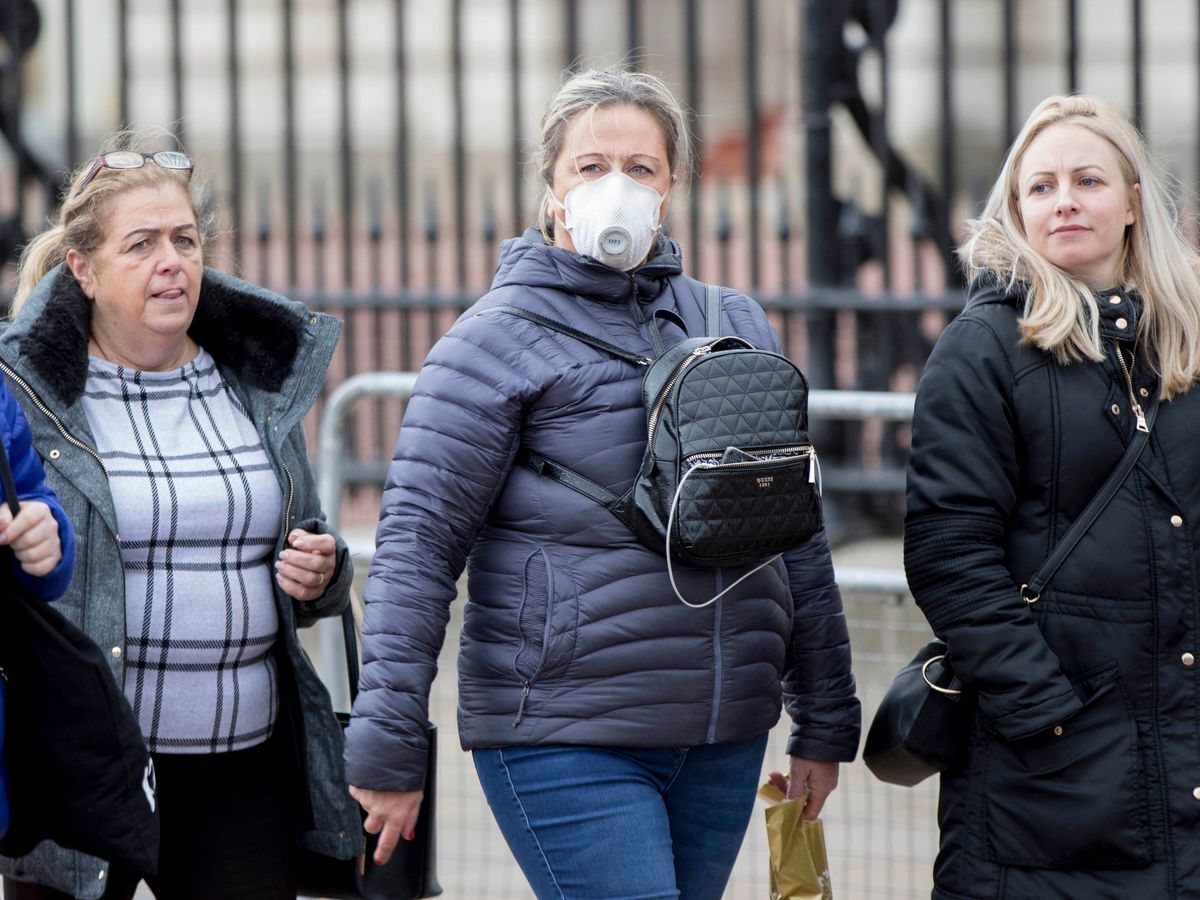bare: (95, 246, 217, 336), (1017, 193, 1130, 264)
n95: (563, 161, 664, 280)
